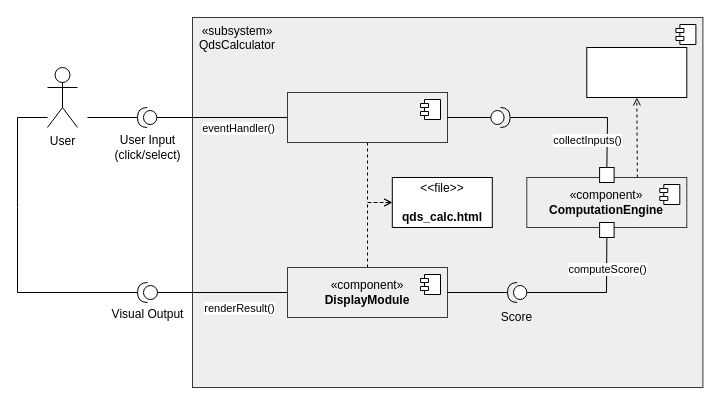
Some shapes in this 721 by 405 pixel diagram are drawn without their labels. Each missing label, with the centre of its shape:
<<file>> script.js: the point at 636,72
Attributes: the point at 500,117
«component» InputModule: the point at 367,117
